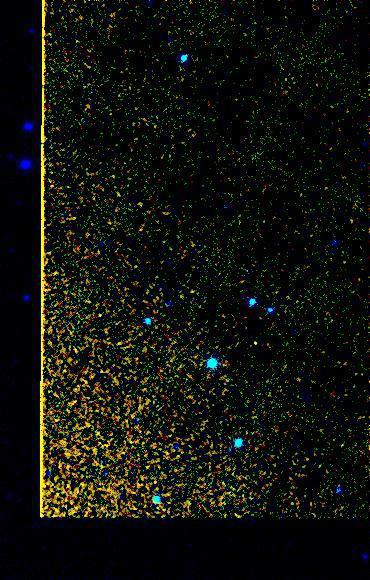star: (241, 329, 271, 359)
